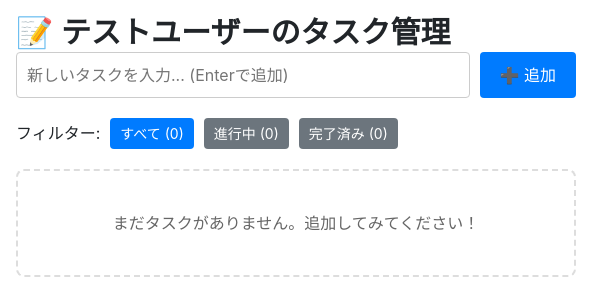
it: DynamicTodoPage › 新しいタスクを追加できる
This screenshot has width=593, height=294.
Type "新しいタスク" into the field with placeholder "新しいタスクを入力... (Enterで追加)" at (243, 74), box [16,52,470,98]
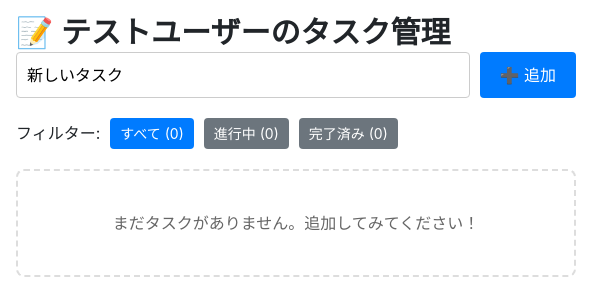
Click the button "➕ 追加" at (528, 74), box [480,52,576,98]
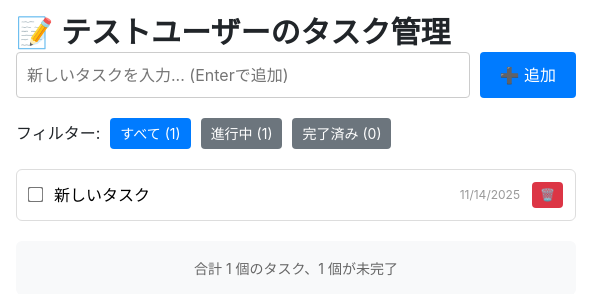
expect the text "新しいタスク" is shown: met, box [54,184,150,204]
